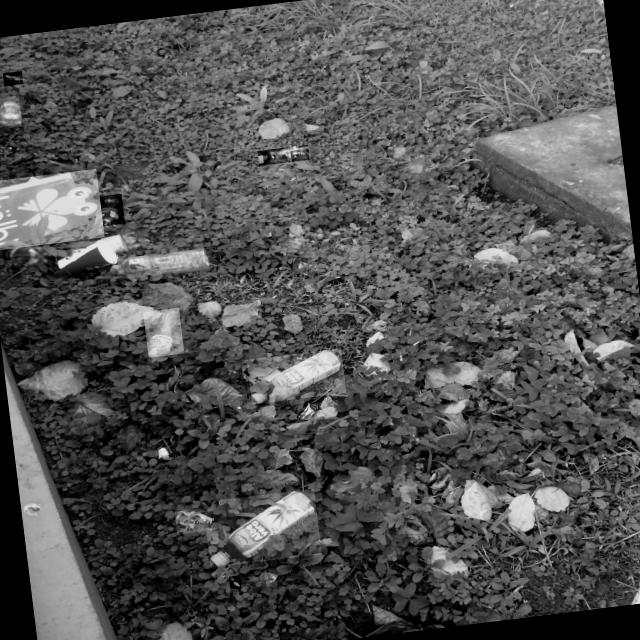Bottle cap: (258, 156, 263, 163), (112, 264, 117, 267)
Cigarette: (230, 576, 241, 588)
Clear plastic bottle: (210, 491, 316, 566), (251, 350, 342, 403), (112, 248, 208, 274), (148, 309, 179, 356), (102, 231, 142, 253), (5, 246, 49, 266), (93, 196, 123, 225), (258, 146, 309, 163), (0, 97, 21, 126)
Cup: (58, 240, 117, 276)
Other Carton: (3, 73, 23, 85)
Other plastic: (176, 511, 213, 530), (297, 402, 317, 419)
Paper bag: (158, 447, 168, 458)
Unlabeled litter: (0, 172, 100, 248)
